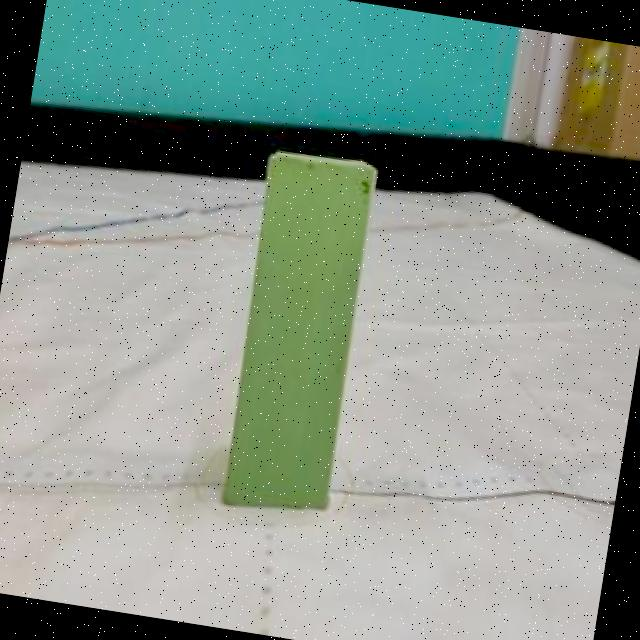greenbox: (216, 146, 382, 524)
